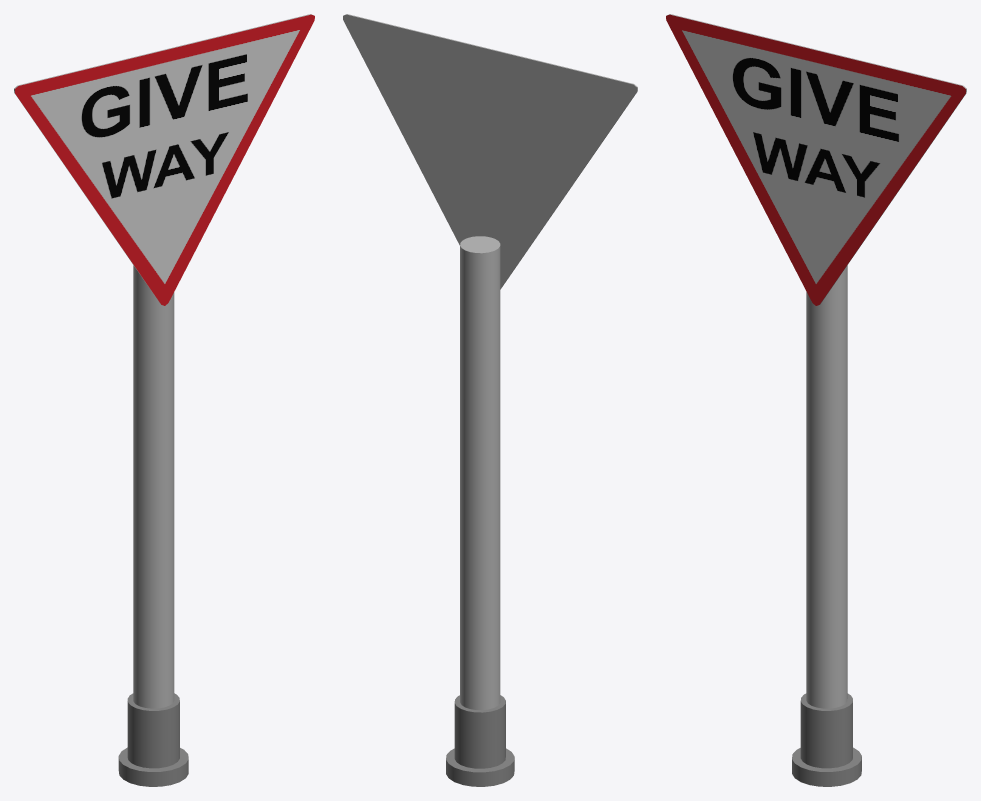
Rendered from Giveway_Sign.fbx.
3 renders of one model, left to right at view 1: azimuth 30°, elevation 25°; view 2: azimuth 150°, elevation 25°; view 3: azimuth 330°, elevation 25°, orthographic. The views are drawn at different scales.
Visible parts, largest first — view 1: polySurface81; view 2: polySurface81; view 3: polySurface81.
Boxes of the visible parts, x1=… form: polySurface81: x1=14, y1=14, x2=314, y2=786; polySurface81: x1=343, y1=14, x2=637, y2=786; polySurface81: x1=666, y1=14, x2=966, y2=786.
Bounding box in the file's own units: 5.8 × 13.49 × 1.18.
